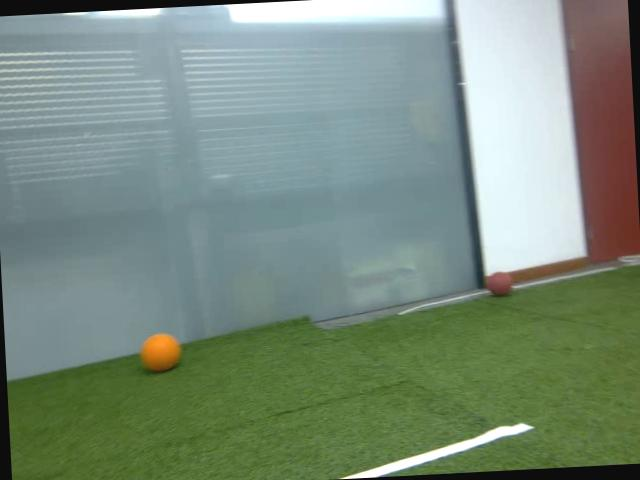orange_ball: (138, 330, 182, 373)
red_ball: (486, 270, 514, 298)
